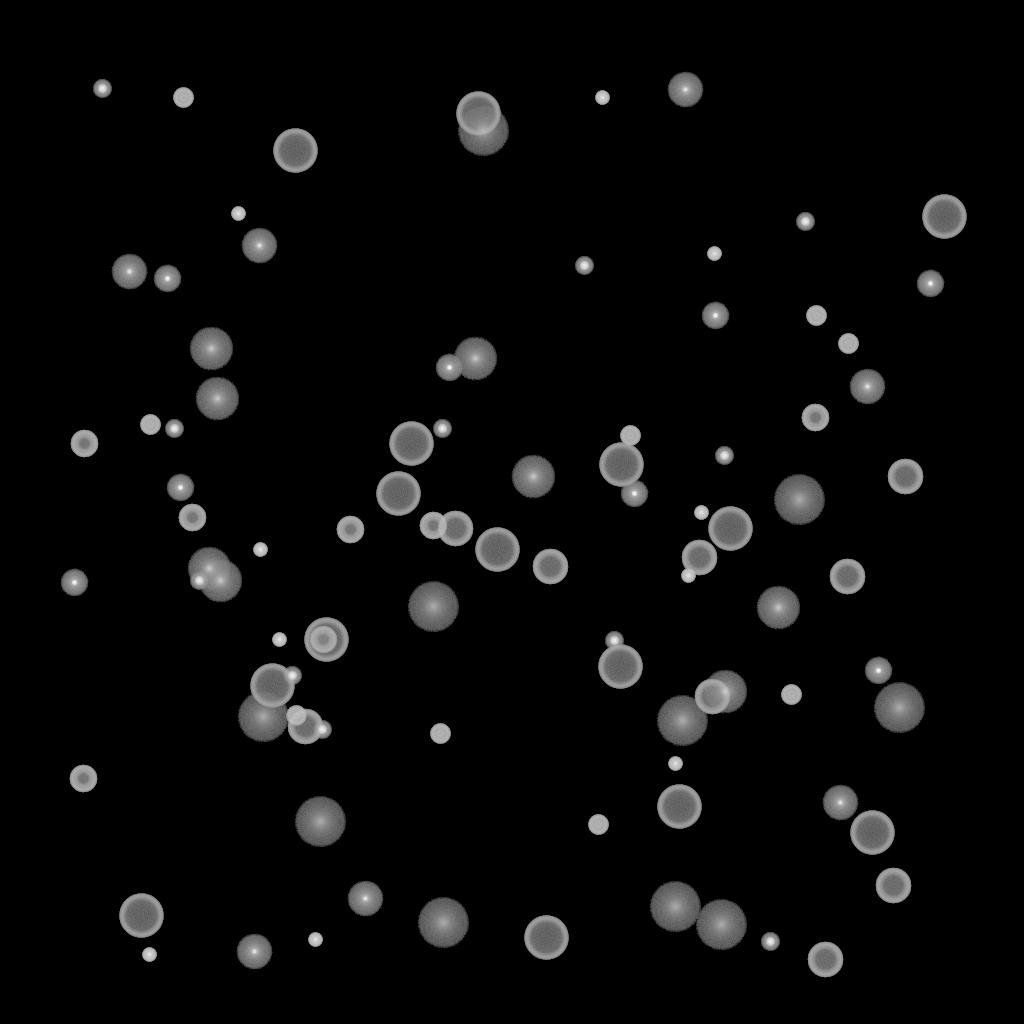depth:-10: (916, 270, 944, 298), (60, 569, 88, 597), (620, 480, 648, 508), (166, 474, 194, 502), (701, 302, 729, 330), (864, 657, 892, 685), (435, 354, 463, 382), (153, 265, 181, 293)
depth:-20: (715, 447, 733, 465), (433, 420, 451, 438), (796, 213, 814, 231), (283, 667, 301, 685), (165, 420, 183, 438), (605, 632, 623, 650), (761, 933, 779, 951), (190, 572, 208, 590), (313, 721, 331, 739), (575, 257, 593, 275), (93, 80, 111, 98)
depth:-30: (308, 933, 322, 947), (595, 91, 609, 105), (231, 207, 245, 221), (681, 569, 695, 583), (694, 506, 708, 520), (707, 247, 721, 261), (272, 633, 286, 647), (142, 948, 156, 962), (668, 757, 682, 771), (253, 543, 267, 557)
depth:-40: (620, 426, 640, 446), (838, 334, 858, 354), (286, 706, 306, 726), (588, 815, 608, 835), (173, 88, 193, 108), (806, 306, 826, 326), (140, 415, 160, 435), (430, 724, 450, 744), (781, 685, 801, 705)
depth:-50: (69, 765, 97, 793), (801, 404, 829, 432), (178, 504, 206, 532), (419, 512, 447, 540), (336, 516, 364, 544), (309, 626, 337, 654), (70, 430, 98, 458)
depth:-60: (887, 459, 923, 495), (437, 511, 473, 547), (829, 559, 865, 595), (532, 549, 568, 585), (875, 868, 911, 904), (694, 679, 730, 715), (681, 540, 717, 576), (807, 942, 843, 978), (287, 709, 323, 745)
depth:-70: (524, 916, 568, 960), (922, 195, 966, 239), (456, 92, 500, 136), (119, 894, 163, 938), (376, 472, 420, 516), (850, 811, 894, 855), (708, 507, 752, 551), (304, 618, 348, 662), (475, 528, 519, 572), (250, 664, 294, 708), (598, 645, 642, 689), (657, 785, 701, 829), (273, 129, 317, 173), (389, 422, 433, 466), (599, 443, 643, 487)
depth:0: (347, 881, 383, 917), (236, 934, 272, 970), (241, 228, 277, 264), (822, 785, 858, 821), (111, 254, 147, 290), (667, 72, 703, 108), (849, 369, 885, 405)
depth:10: (198, 559, 242, 603), (187, 547, 231, 591), (453, 337, 497, 381), (511, 455, 555, 499), (703, 670, 747, 714), (195, 377, 239, 421), (189, 327, 233, 371), (756, 586, 800, 630)
depth:20: (237, 692, 289, 742), (649, 882, 701, 932), (294, 797, 346, 847), (773, 475, 825, 525), (873, 683, 925, 733), (407, 582, 459, 632), (417, 898, 469, 948), (457, 106, 509, 156), (695, 900, 747, 950), (656, 696, 708, 746)
